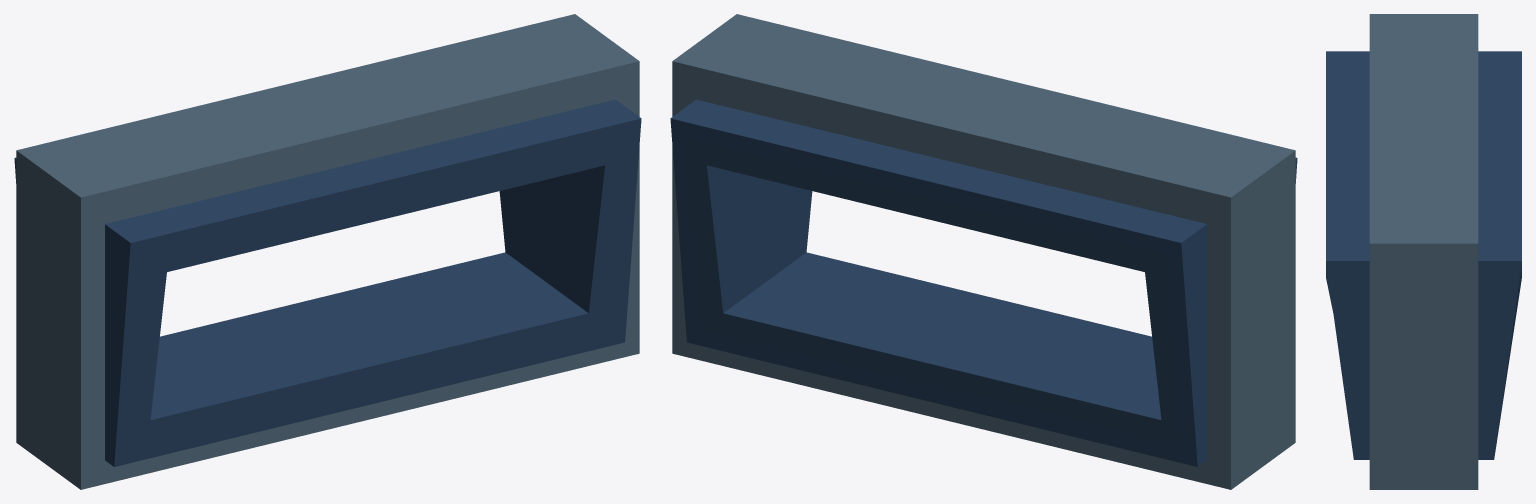
Rendered from W1_WindowSquare_1m_Top.fbx.
3 views of the same model, side by side, from view 1: azimuth 30°, elevation 25°; view 2: azimuth 150°, elevation 25°; view 3: azimuth 270°, elevation 25° (orthographic). The views are drawn at different scales.
Parts seen in each view (by area): view 1: W1_WindowSquare_1m_Top.001; view 2: W1_WindowSquare_1m_Top.001; view 3: W1_WindowSquare_1m_Top.001.
Part boxes in pixels (x1=…): W1_WindowSquare_1m_Top.001: x1=14, y1=14, x2=641, y2=489; W1_WindowSquare_1m_Top.001: x1=670, y1=14, x2=1297, y2=489; W1_WindowSquare_1m_Top.001: x1=1326, y1=14, x2=1521, y2=489.
Bounding box in the file's own units: 1 × 0.5 × 0.3603.
